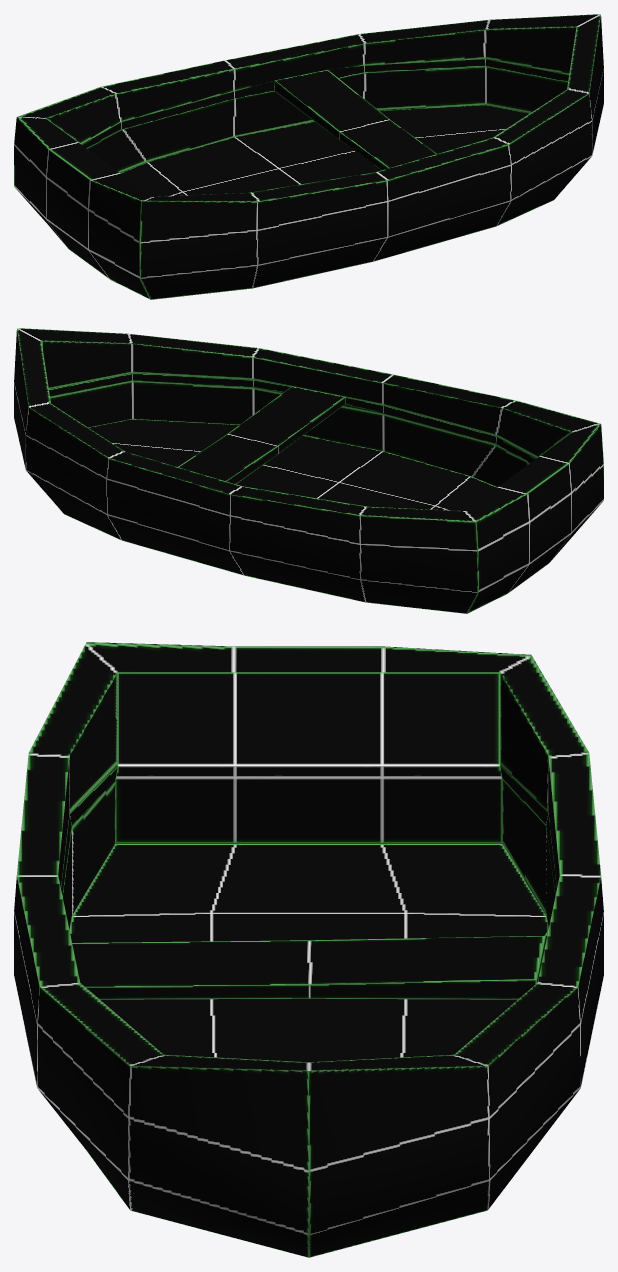
Rendered from rowboat.FBX.
3 views of the same model, one above another, from view 1: azimuth 30°, elevation 25°; view 2: azimuth 150°, elevation 25°; view 3: azimuth 270°, elevation 25° (orthographic). The views are drawn at different scales.
Parts seen in each view (by area): view 1: Box001; view 2: Box001; view 3: Box001.
Part boxes in pixels (x1,y1,x2,y2): Box001: (14,14,603,299); Box001: (14,328,603,613); Box001: (14,642,603,1257).
Size of the model in its own units: 79.19 by 17.72 by 42.3.
